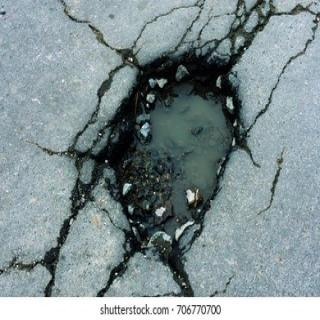pothole: (76, 48, 242, 298), (46, 172, 99, 296)
